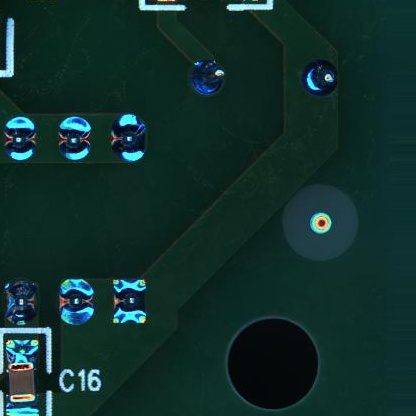spot: (59, 278, 97, 327), (110, 278, 148, 324), (110, 115, 144, 164), (2, 279, 38, 324), (300, 59, 341, 98), (3, 116, 37, 160), (58, 118, 92, 162), (188, 60, 226, 97)
